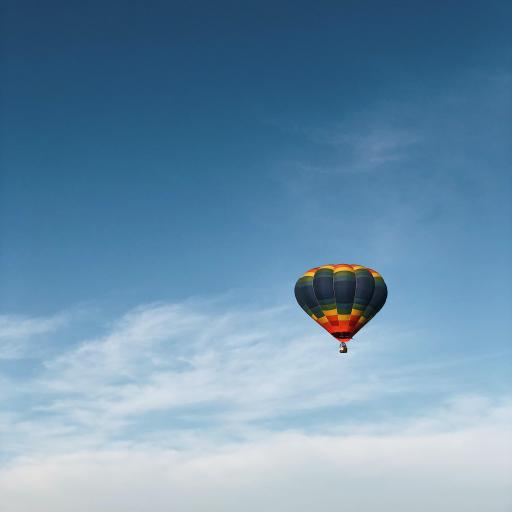hot air ballon: (288, 260, 395, 357)
